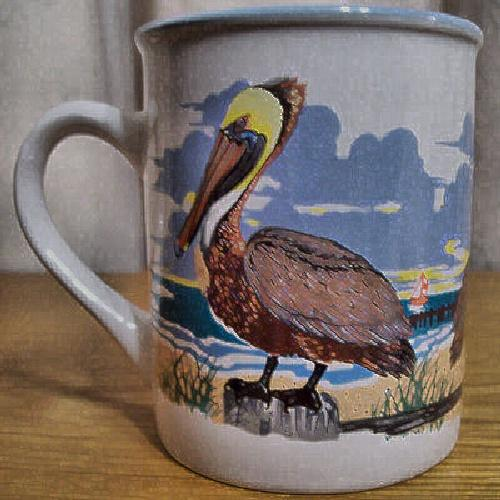mug: (53, 28, 478, 467)
